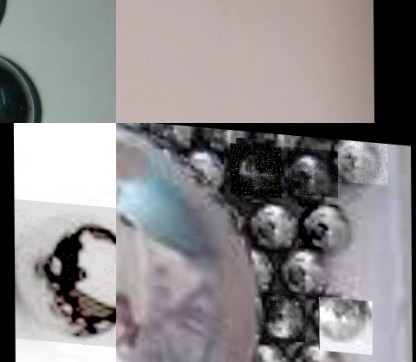ironball: (116, 123, 275, 361), (13, 198, 116, 347), (318, 291, 371, 349), (297, 196, 357, 247), (229, 139, 280, 194), (0, 51, 39, 119), (286, 142, 337, 192), (333, 133, 387, 178), (261, 288, 304, 338)
